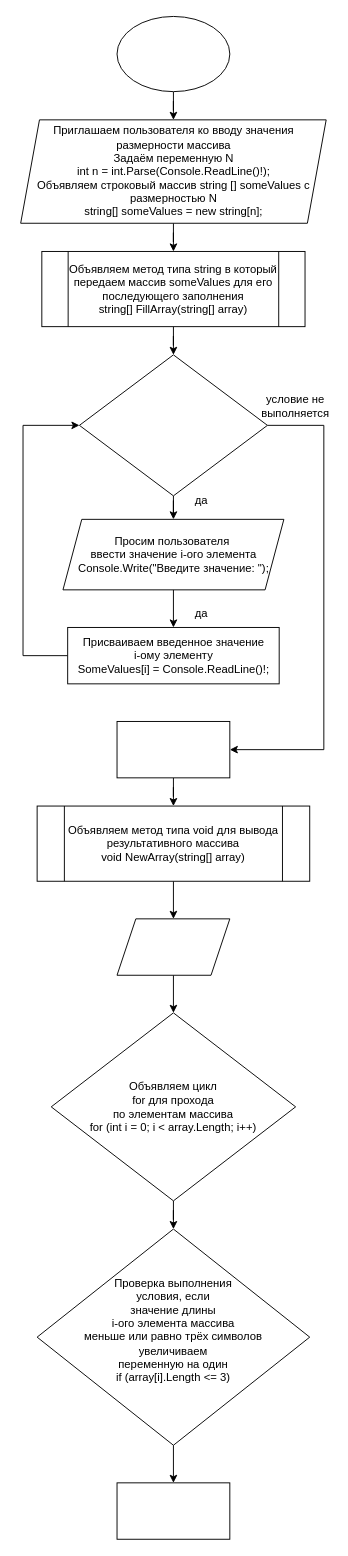
Image size: 348x1556. Some labels were removed from this diagram. Here are the shapes that lost their labels. From the top down, the centre of each, then its label:
the point at 173,54: Start
the point at 172,425: Объявляем цикл for для прохода по элементам массива for (int i = 0; i < n; i++)
the point at 173,749: Возвращаем заполненный массив return SomeValues;
the point at 173,946: Объявляем переменную int lenght = 0;
